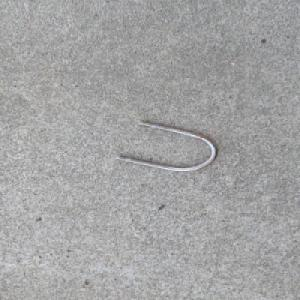ClampPart: (114, 120, 218, 172)
